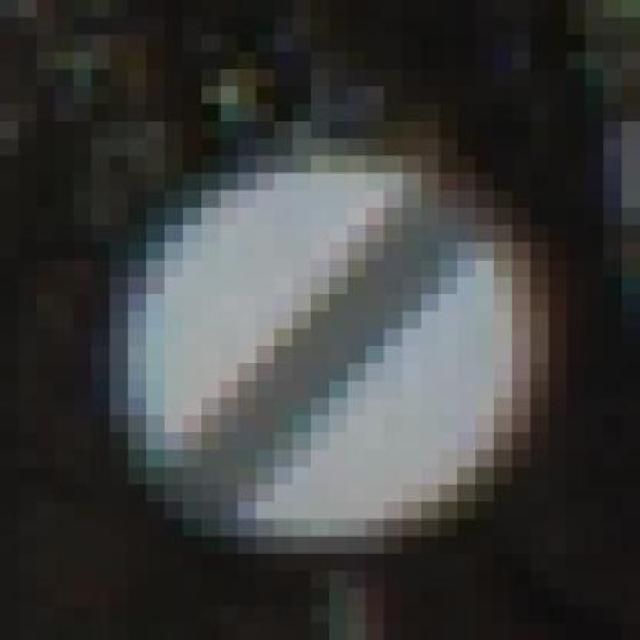End of all speed and passing limits: (55, 138, 567, 554)
